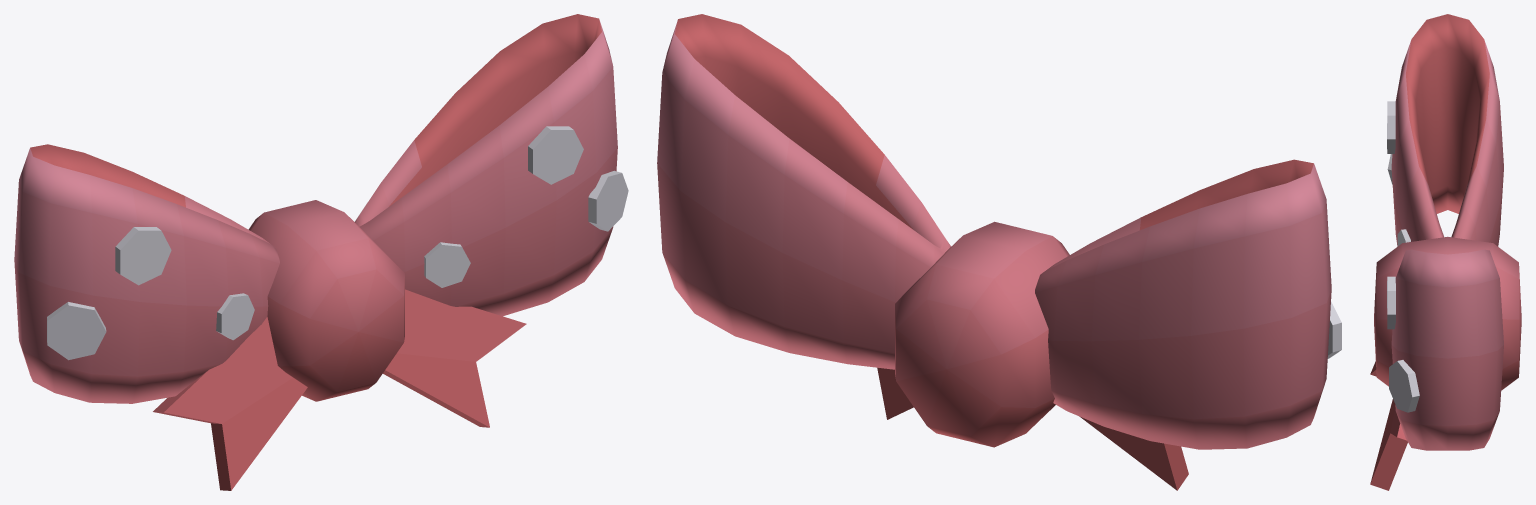
File: slime_hat_bow.fbx
3 renders of one model, left to right at view 1: azimuth 30°, elevation 25°; view 2: azimuth 150°, elevation 25°; view 3: azimuth 270°, elevation 25°, orthographic. The views are drawn at different scales.
Visible parts, largest first — view 1: slime_hat_bow; view 2: slime_hat_bow; view 3: slime_hat_bow.
Part boxes in pixels (x1,y1,x2,y2): slime_hat_bow: (14, 14, 628, 490); slime_hat_bow: (657, 14, 1341, 490); slime_hat_bow: (1370, 14, 1521, 490).
Size of the model in its own units: 2.1 by 1.17 by 0.5329.
